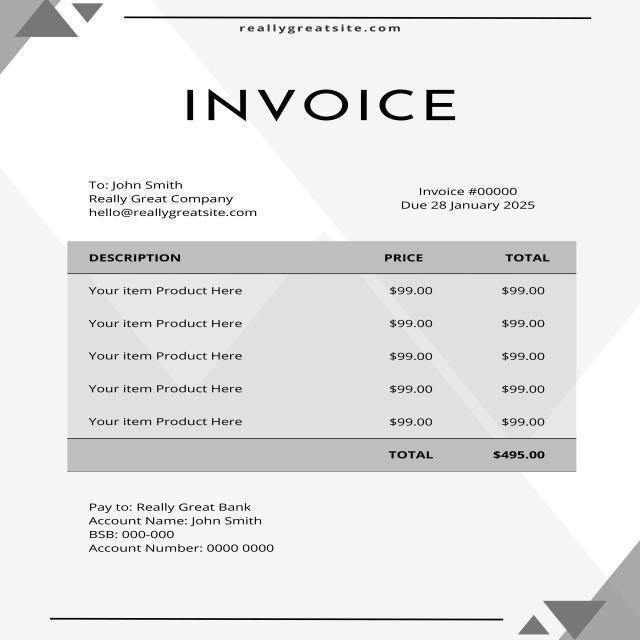paragraph: (178, 80, 470, 132), (81, 497, 282, 560), (84, 172, 269, 224), (395, 183, 545, 218), (383, 443, 556, 466), (233, 19, 404, 37)
table: (67, 239, 571, 439)
